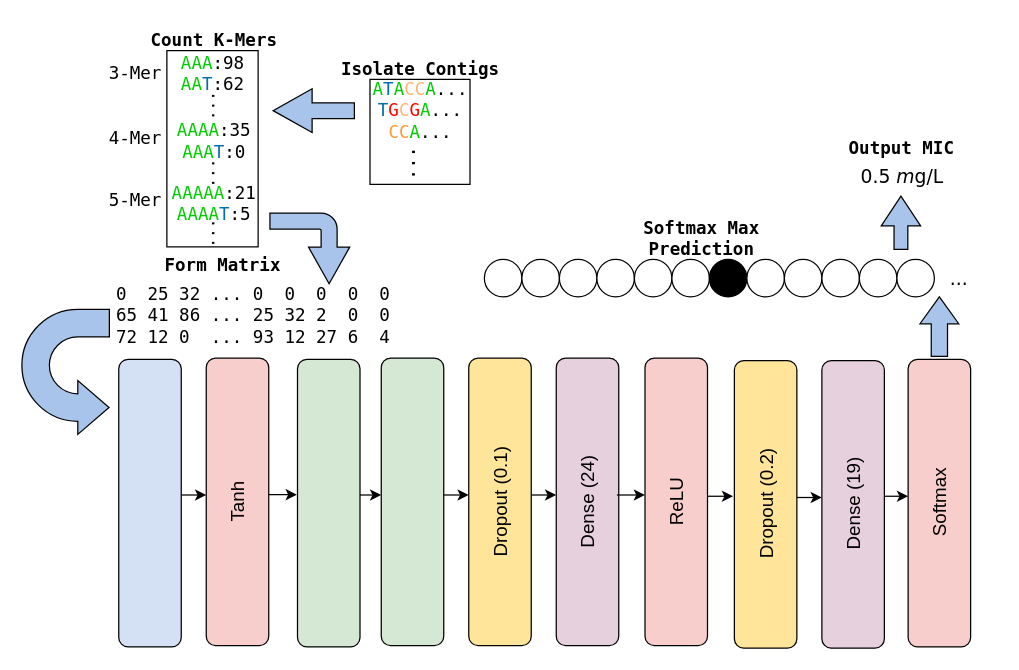
The diagram is 1019 pixels wide and 670 high, and some of its shapes have lost their labels. Each missing label, with the centre of its shape:
Bahdanau Attention: the point at 328,502
Bidirectional GRU (120): the point at 149,502
Concatentate: the point at 412,501
